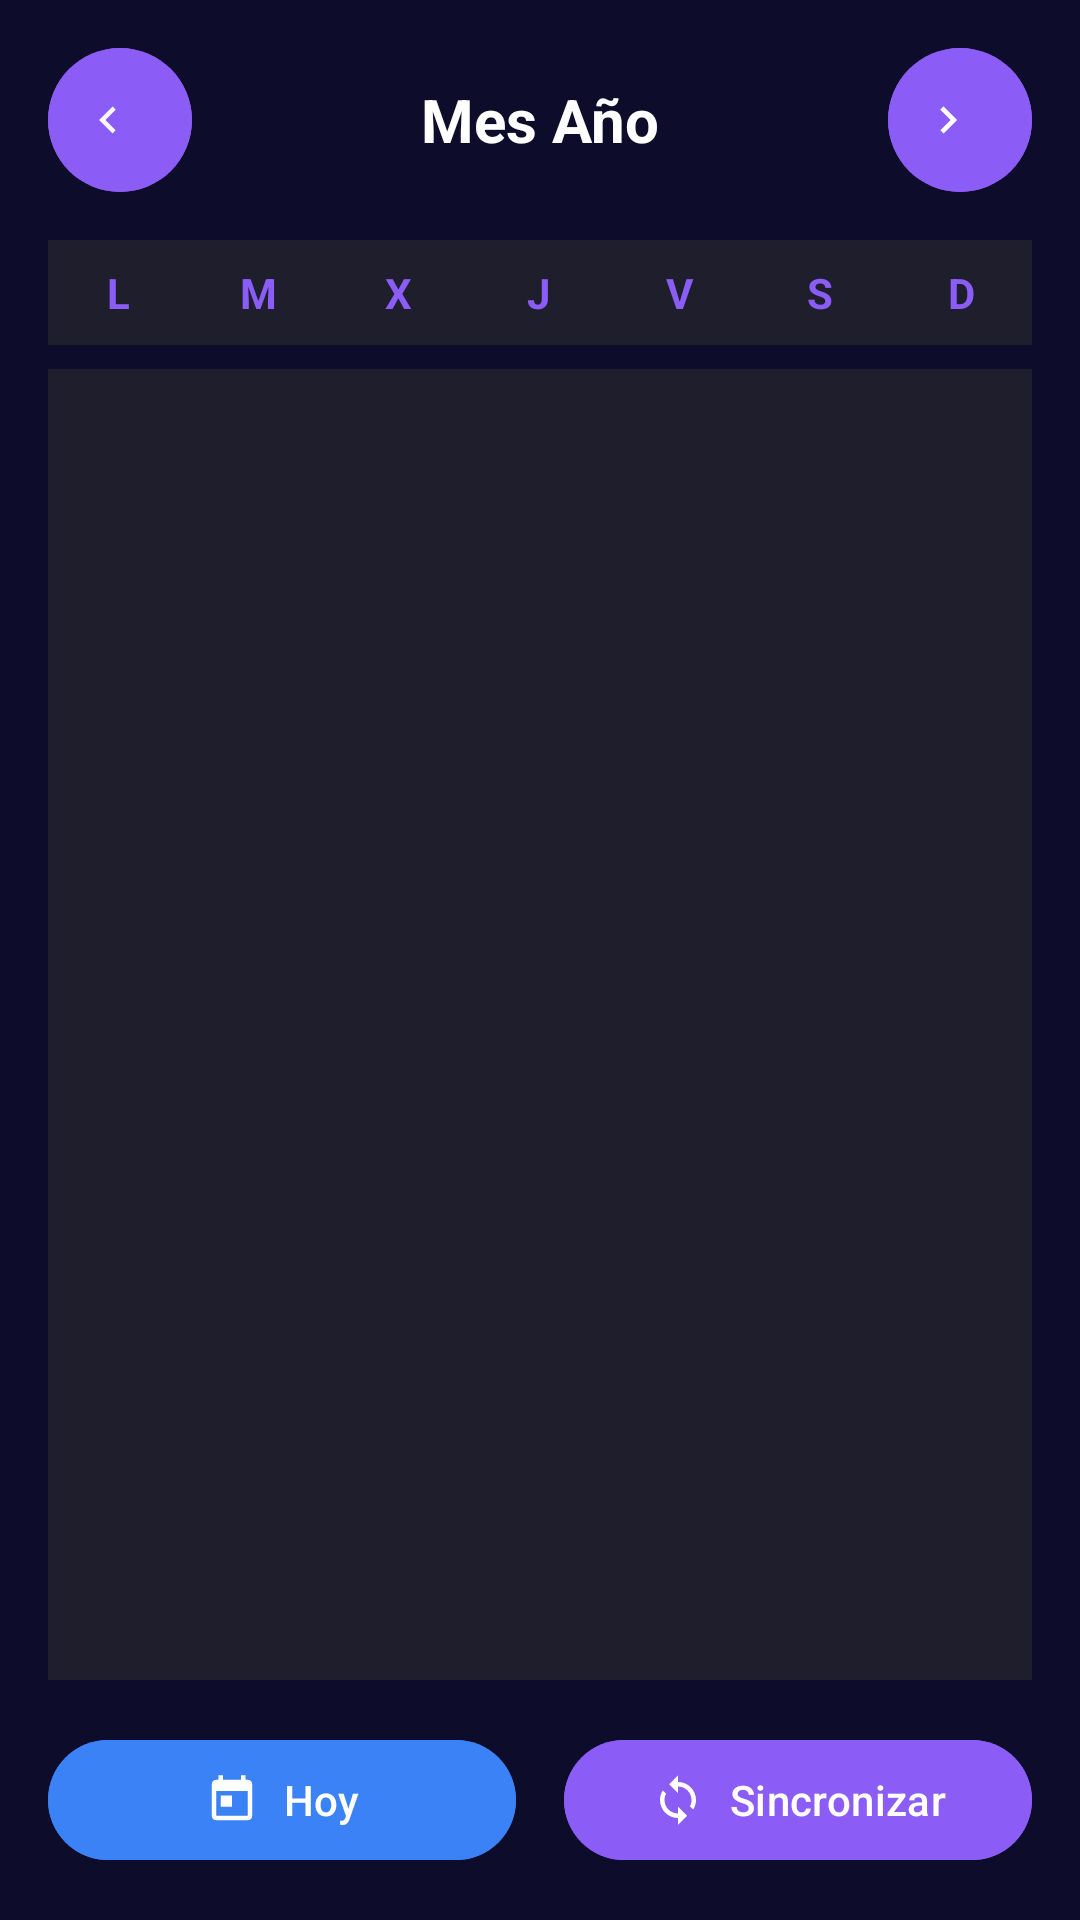

Icon click points for this 1080*1920 phone screenshot, format [x,y]:
left: [120,120]
right: [960,120]
